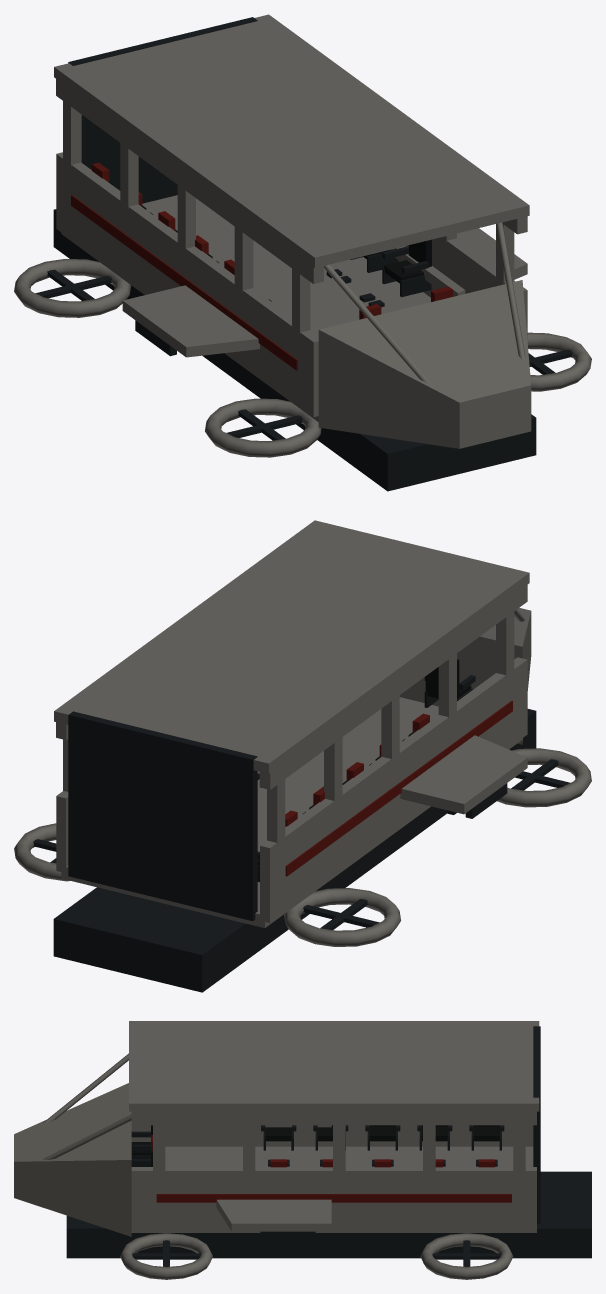
3 renders of one model, top to bottom at view 1: azimuth 30°, elevation 25°; view 2: azimuth 150°, elevation 25°; view 3: azimuth 270°, elevation 25°, orthographic. The views are drawn at different scales.
Visible parts, largest first — view 1: hover-transport-painted, transport-roof-painted, transport-ramp-painted, crew-seating-batch-painted, rotor-lift--1--3.1-fleet-machine, rotor-lift--1-2.9-fleet-machine; view 2: transport-roof-painted, hover-transport-painted, transport-ramp-painted, crew-seating-batch-painted, rotor-lift--1--3.1-fleet-machine, rotor-lift--1-2.9-fleet-machine; view 3: hover-transport-painted, transport-roof-painted, crew-seating-batch-painted, transport-ramp-painted, rotor-lift-1--3.1-fleet-machine, rotor-lift-1-2.9-fleet-machine.
Boxes of the visible parts, left/top/right/bottom form: hover-transport-painted: left=14, top=152, right=591, bottom=491; transport-roof-painted: left=54, top=14, right=529, bottom=333; transport-ramp-painted: left=68, top=17, right=257, bottom=203; crew-seating-batch-painted: left=92, top=162, right=452, bottom=319; rotor-lift--1--3.1-fleet-machine: left=35, top=269, right=111, bottom=300; rotor-lift--1-2.9-fleet-machine: left=227, top=409, right=302, bottom=440; transport-roof-painted: left=54, top=520, right=529, bottom=844; hover-transport-painted: left=14, top=607, right=591, bottom=992; transport-ramp-painted: left=68, top=711, right=257, bottom=921; crew-seating-batch-painted: left=257, top=659, right=475, bottom=882; rotor-lift--1--3.1-fleet-machine: left=303, top=899, right=379, bottom=929; rotor-lift--1-2.9-fleet-machine: left=511, top=759, right=570, bottom=790; hover-transport-painted: left=14, top=1053, right=591, bottom=1279; transport-roof-painted: left=129, top=1021, right=539, bottom=1172; crew-seating-batch-painted: left=131, top=1125, right=504, bottom=1167; transport-ramp-painted: left=533, top=1026, right=540, bottom=1224; rotor-lift-1--3.1-fleet-machine: left=432, top=1240, right=501, bottom=1266; rotor-lift-1-2.9-fleet-machine: left=132, top=1240, right=200, bottom=1266.
Size of the model in its own units: 36.97 by 20.23 by 63.16.
